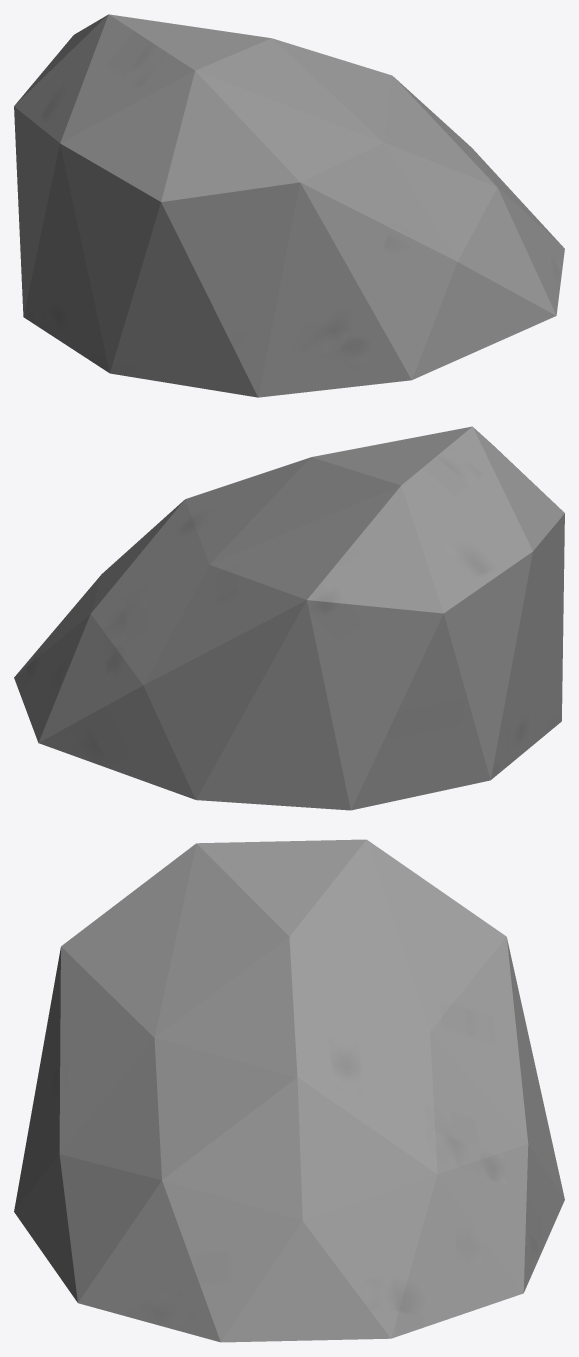
The model's file is Stones2.gltf.
The picture shows the model from 3 angles, top to bottom: view 1: azimuth 30°, elevation 25°; view 2: azimuth 150°, elevation 25°; view 3: azimuth 270°, elevation 25°; orthographic projection. The views are drawn at different scales.
Visible parts, largest first — view 1: Stone1.004 - copy.001; view 2: Stone1.004 - copy.001; view 3: Stone1.004 - copy.001.
Boxes of the visible parts, x1=… form: Stone1.004 - copy.001: x1=14, y1=14, x2=564, y2=397; Stone1.004 - copy.001: x1=14, y1=426, x2=564, y2=810; Stone1.004 - copy.001: x1=14, y1=839, x2=564, y2=1342.
Bounding box in the file's own units: 1.15 × 0.6401 × 1.07.
Materials: 1 (1 with a texture image).
